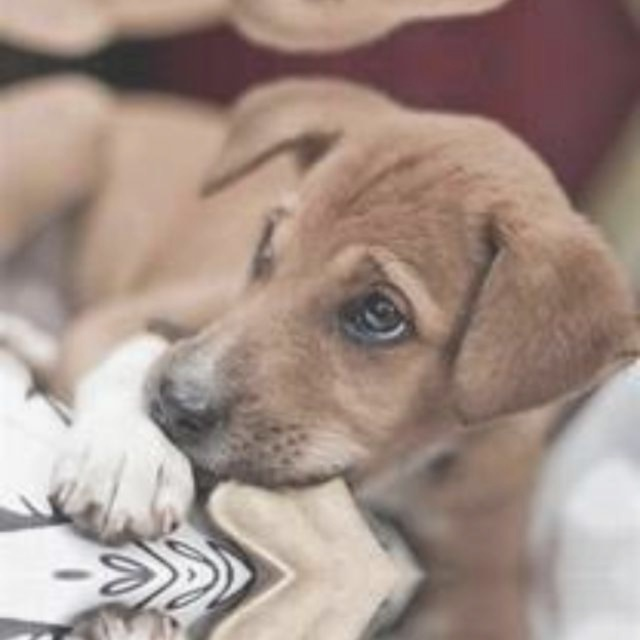dog: (89, 95, 607, 532), (89, 0, 607, 32), (89, 617, 607, 640)
